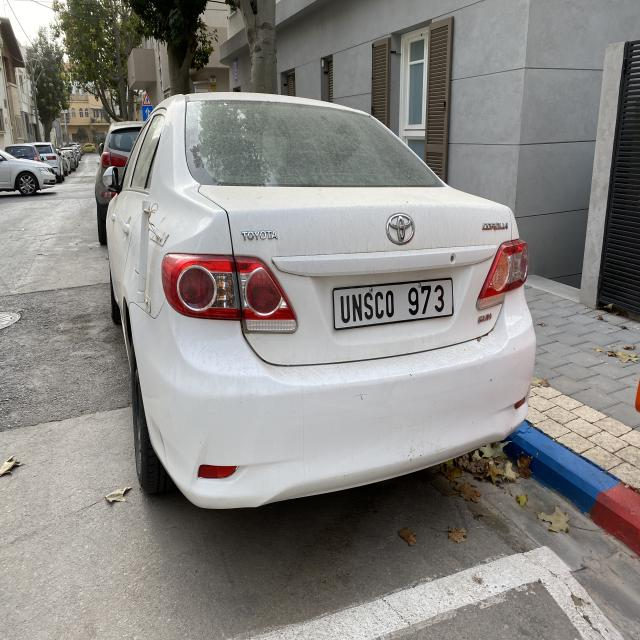license: (314, 269, 468, 341), (316, 268, 470, 338)
